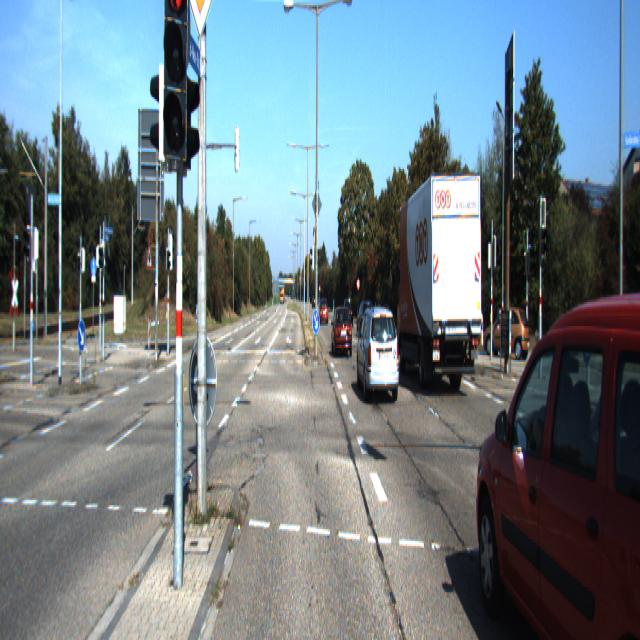Car: (474, 276, 640, 638), (356, 305, 401, 409), (484, 303, 531, 359), (332, 305, 352, 358)
DontCare: (319, 299, 326, 322), (279, 286, 284, 302), (312, 295, 316, 308)
Truck: (394, 166, 484, 400)
